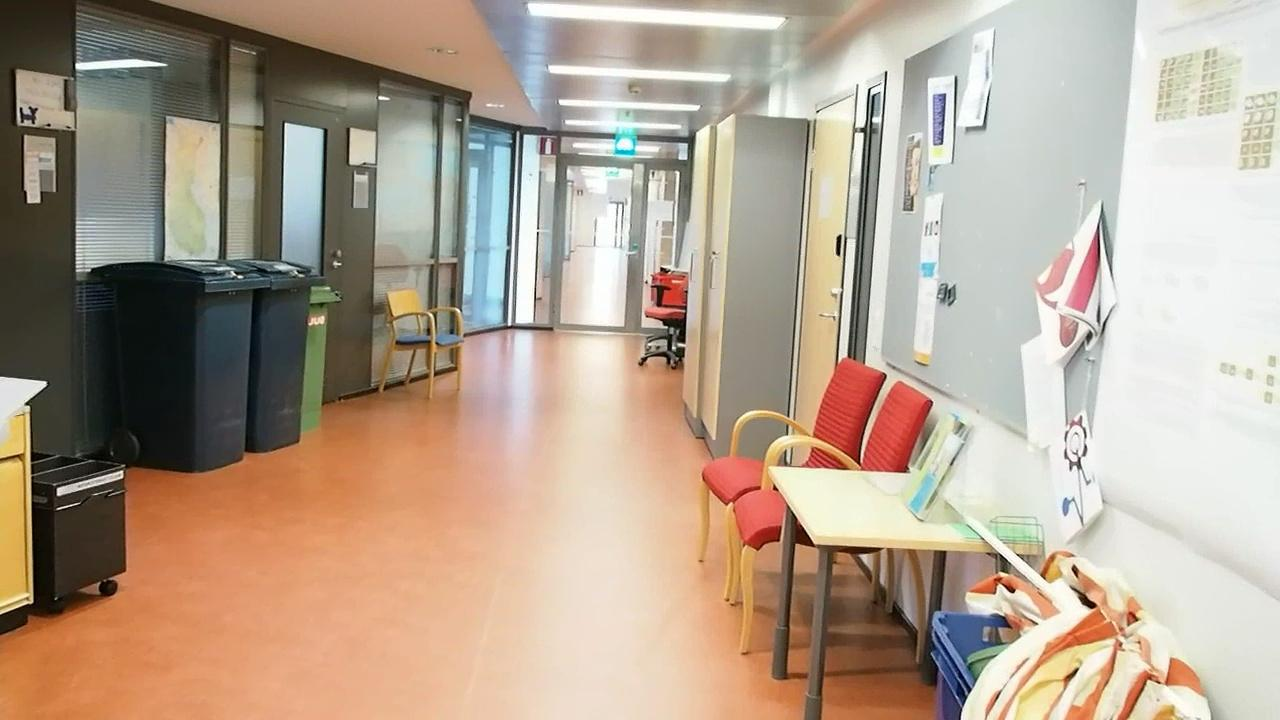chair: (681, 352, 906, 613), (377, 285, 470, 398)
trashbin: (101, 256, 246, 472), (252, 257, 350, 458)
